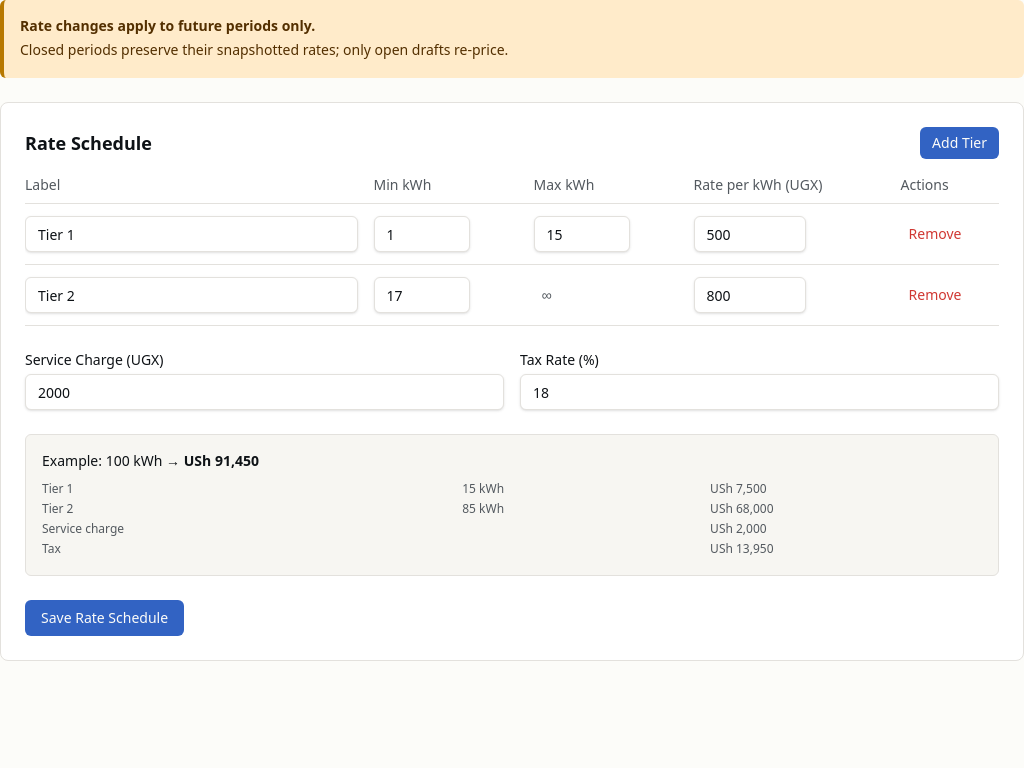
Test: TierEditor › (d) shows validation error when there is a gap between tiers
Click the button "Save Rate Schedule": click(105, 618) [25,600,184,636]
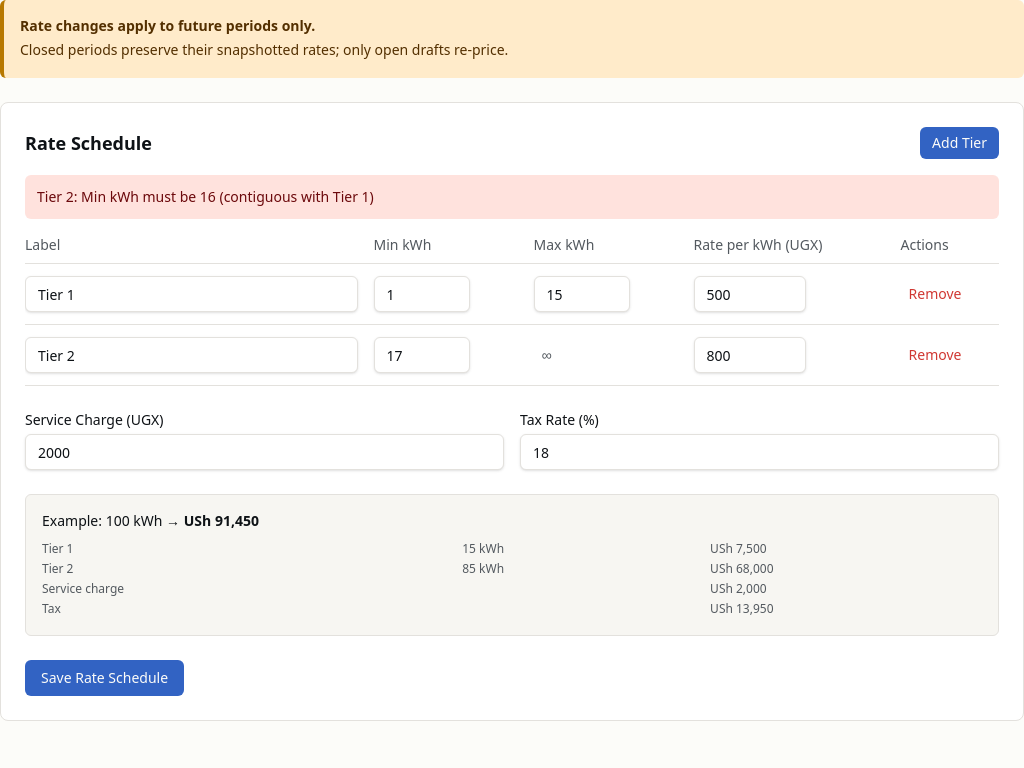
Now the text "Tier 2: Min kWh must be 16 (contiguous with Tier 1)" is shown, box [25,175,999,219]
